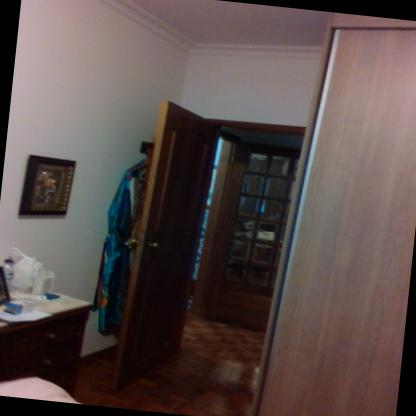open: (102, 95, 339, 414)
